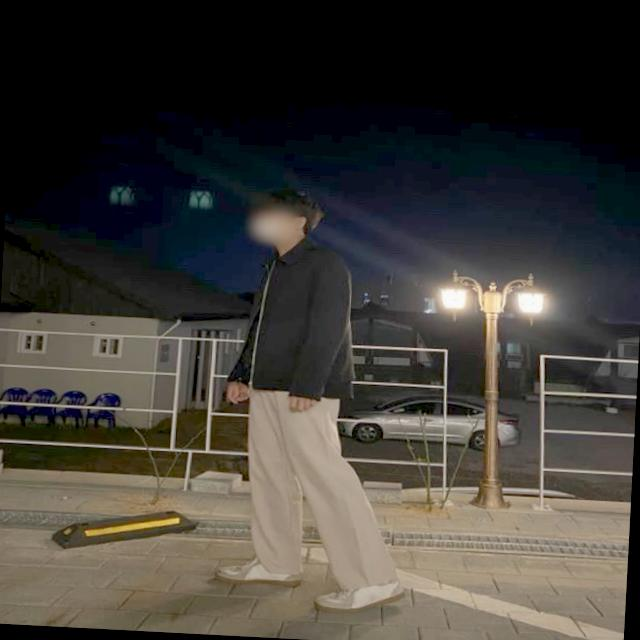jacket: (227, 234, 360, 401)
slacks: (235, 388, 404, 597)
